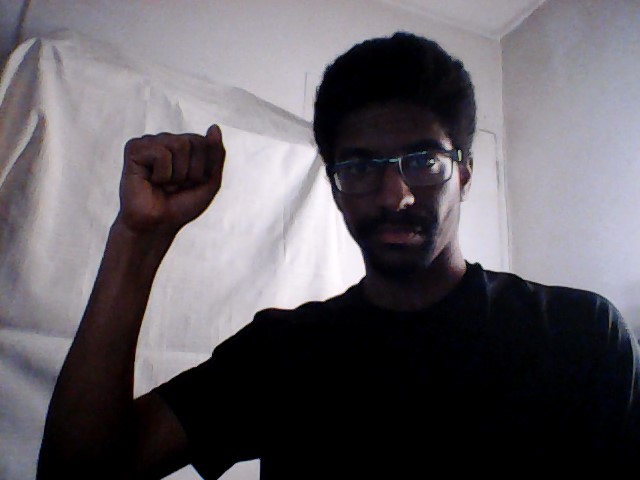a: (114, 120, 230, 231)
